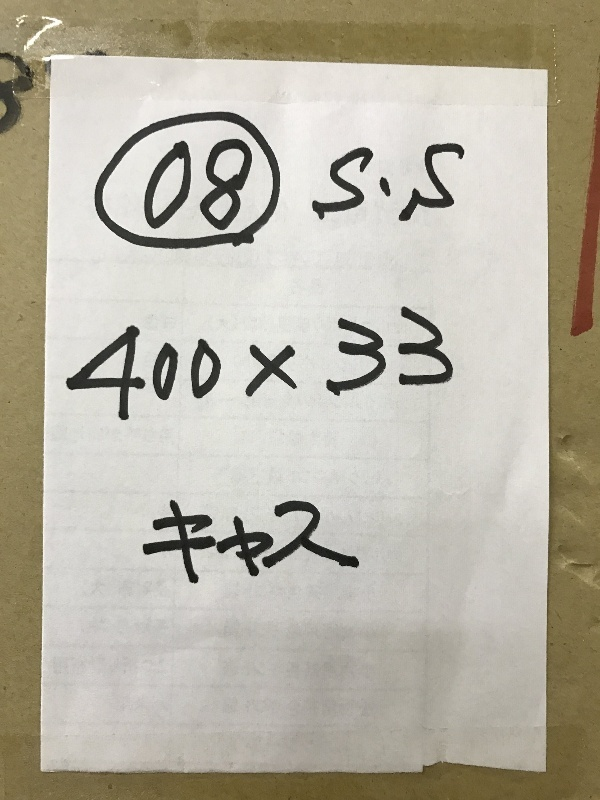text: (81, 303, 96, 424), (97, 303, 112, 424), (113, 303, 128, 424), (129, 303, 144, 424), (145, 303, 160, 424), (161, 303, 176, 424), (177, 303, 192, 424), (193, 303, 208, 424), (209, 303, 224, 424), (225, 303, 240, 424), (241, 303, 256, 424), (257, 303, 272, 424), (273, 303, 288, 424), (289, 303, 304, 424), (305, 303, 320, 424), (321, 303, 336, 424), (337, 303, 352, 424), (353, 303, 368, 424), (369, 303, 384, 424), (385, 303, 400, 424), (401, 303, 416, 424), (417, 303, 432, 424), (433, 303, 448, 424), (68, 303, 80, 424), (161, 500, 176, 594), (177, 500, 192, 594), (193, 500, 208, 594), (209, 500, 224, 594), (225, 500, 240, 594), (241, 500, 256, 594), (257, 500, 272, 594), (273, 500, 288, 594), (289, 500, 304, 594), (305, 500, 320, 594), (321, 500, 336, 594), (337, 500, 352, 594), (1, 47, 16, 141), (17, 47, 32, 141), (161, 139, 176, 231), (177, 139, 192, 231), (193, 139, 208, 231), (209, 139, 224, 231), (225, 139, 240, 231), (241, 139, 255, 231), (321, 143, 336, 225), (337, 143, 352, 225), (353, 143, 368, 225), (369, 143, 384, 225), (385, 143, 400, 225), (401, 143, 416, 225), (417, 143, 432, 225), (433, 143, 448, 225), (449, 143, 464, 225), (148, 500, 160, 594), (449, 303, 456, 424), (353, 500, 360, 594), (33, 47, 39, 141), (316, 143, 320, 225), (159, 139, 160, 231), (465, 143, 466, 225)
